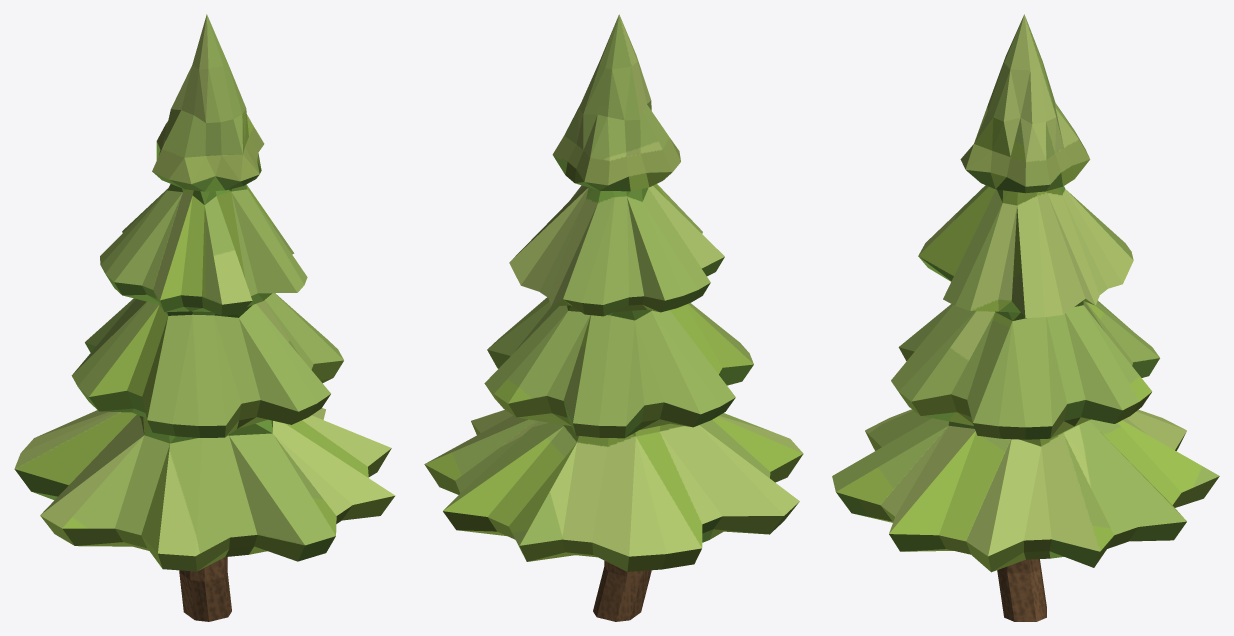
File: _9_tree_Cube.002.obj
3 views of the same model, side by side, from view 1: azimuth 30°, elevation 25°; view 2: azimuth 150°, elevation 25°; view 3: azimuth 270°, elevation 25° (orthographic).
Visible parts, largest first — view 1: _9_tree_Cube.002; view 2: _9_tree_Cube.002; view 3: _9_tree_Cube.002.
Part boxes in pixels (x1=…): _9_tree_Cube.002: x1=14, y1=14, x2=395, y2=621; _9_tree_Cube.002: x1=424, y1=14, x2=803, y2=621; _9_tree_Cube.002: x1=832, y1=14, x2=1219, y2=621.
Size of the model in its own units: 0.5932 by 1.02 by 0.5989.
1 material, 1 textured.
